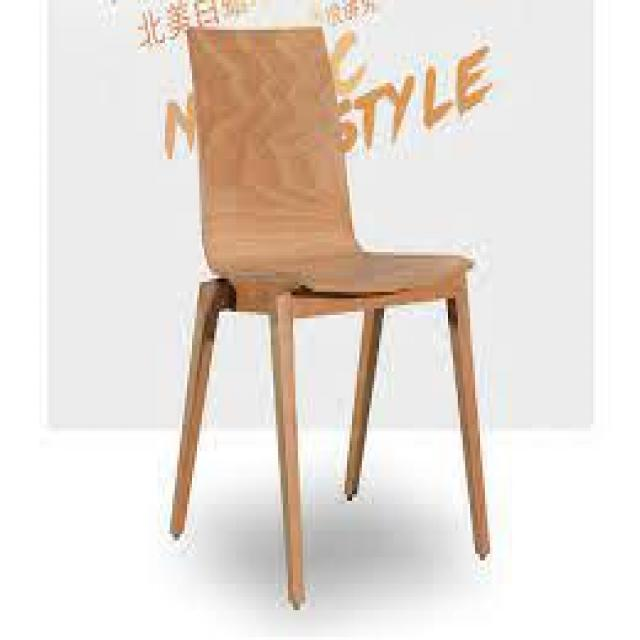chair: (162, 15, 522, 589)
